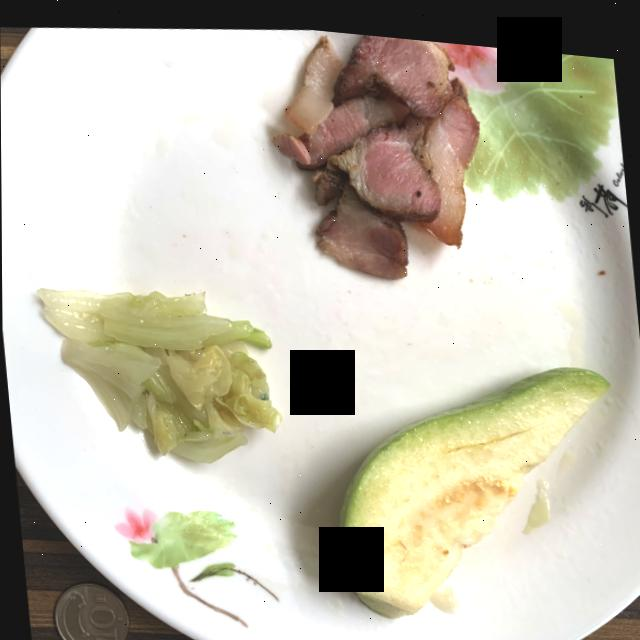cabbage: (37, 287, 281, 458)
coin: (53, 581, 128, 640)
grilled pork: (272, 28, 479, 270)
guava -sliced-: (338, 356, 608, 609)
